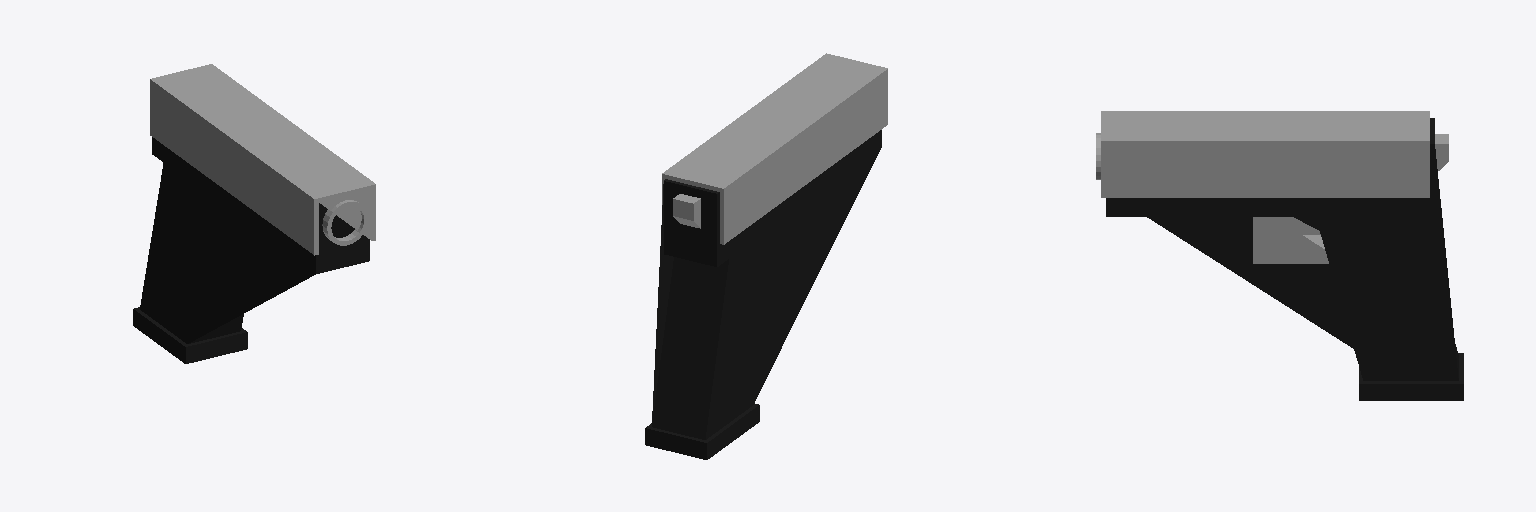
The model's file is gun.obj.
The picture shows the model from 3 angles: view 1: azimuth 30°, elevation 25°; view 2: azimuth 150°, elevation 25°; view 3: azimuth 270°, elevation 25°; orthographic projection.
Parts seen in each view (by area): view 1: pistol; view 2: pistol; view 3: pistol.
Boxes of the visible parts, box(x1,y1,x2,y2) form: pistol: box(133, 64, 375, 363); pistol: box(645, 53, 887, 459); pistol: box(1096, 111, 1463, 400).
Bounding box in the file's own units: 0.009 × 0.036 × 0.0462.